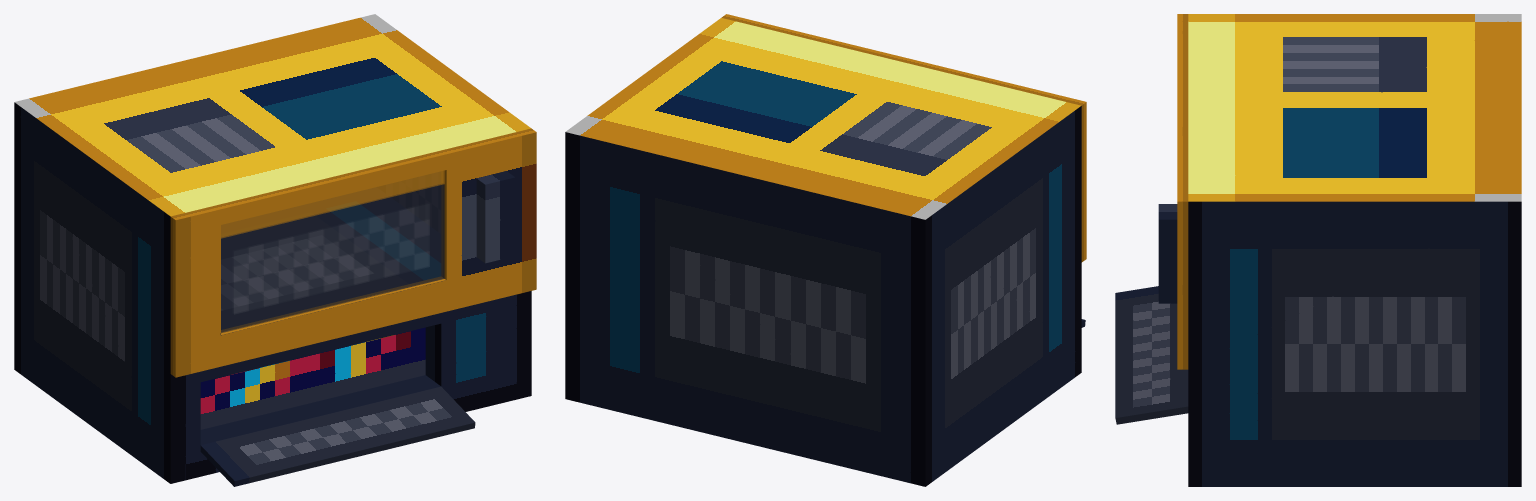
Rendered from microwave_engineering_service.glb.
3 renders of one model, left to right at view 1: azimuth 30°, elevation 25°; view 2: azimuth 150°, elevation 25°; view 3: azimuth 270°, elevation 25°, orthographic. The views are drawn at different scales.
Parts seen in each view (by area): view 1: Engineering_Continuous_Cabinet, Engineering_Door_Frame, Engineering_Door_Glass, Engineering_Service_Cover, Engineering_Wiring_Board, Engineering_Door_Handle; view 2: Engineering_Continuous_Cabinet, Engineering_Door_Frame; view 3: Engineering_Continuous_Cabinet, Engineering_Service_Cover, Engineering_Door_Frame, Engineering_Door_Handle.
Boxes of the visible parts, x1=… form: Engineering_Continuous_Cabinet: x1=14, y1=14, x2=531, y2=483; Engineering_Door_Frame: x1=170, y1=128, x2=536, y2=377; Engineering_Door_Glass: x1=221, y1=170, x2=444, y2=333; Engineering_Service_Cover: x1=200, y1=386, x2=475, y2=486; Engineering_Wiring_Board: x1=200, y1=327, x2=425, y2=429; Engineering_Door_Handle: x1=476, y1=171, x2=515, y2=263; Engineering_Continuous_Cabinet: x1=565, y1=18, x2=1081, y2=486; Engineering_Door_Frame: x1=721, y1=14, x2=1086, y2=262; Engineering_Continuous_Cabinet: x1=1188, y1=14, x2=1521, y2=486; Engineering_Service_Cover: x1=1115, y1=286, x2=1188, y2=424; Engineering_Door_Frame: x1=1177, y1=14, x2=1188, y2=369; Engineering_Door_Handle: x1=1158, y1=204, x2=1177, y2=303.
Bounding box in the file's own units: 0.675 × 0.4781 × 0.617.
2 materials, 2 textured.
